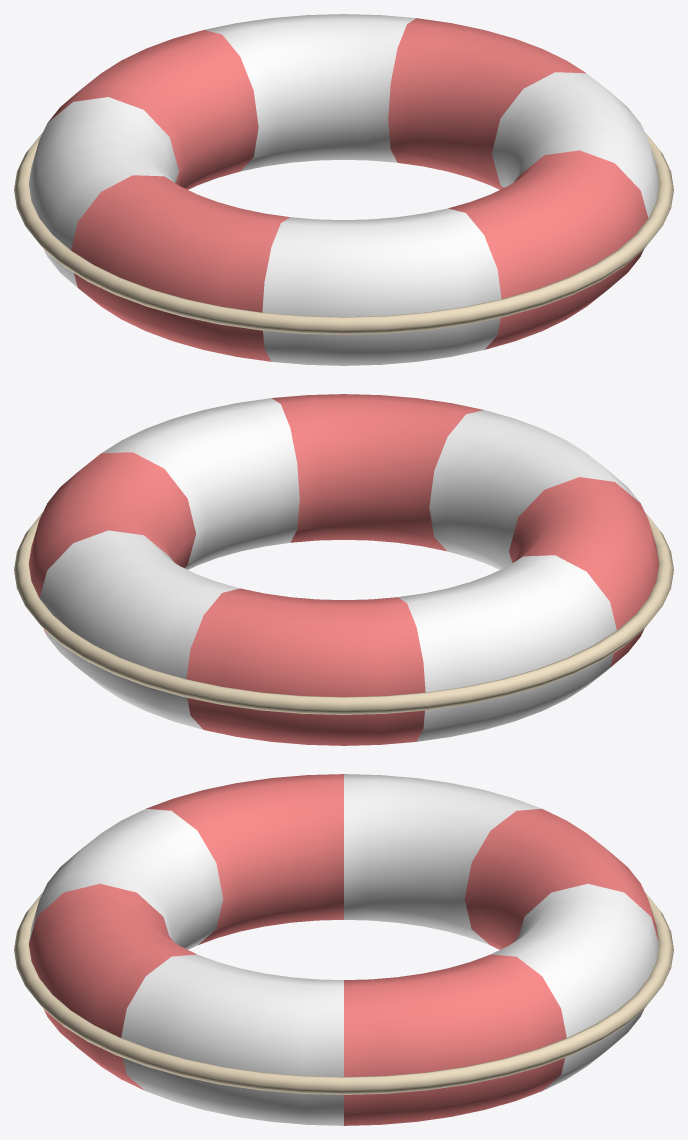
The model's file is BumperLifebuoy.glb.
The picture shows the model from 3 angles, top to bottom: view 1: azimuth 30°, elevation 25°; view 2: azimuth 150°, elevation 25°; view 3: azimuth 270°, elevation 25°; orthographic projection.
Visible parts, largest first — view 1: Red, White, Rope; view 2: White, Red, Rope; view 3: Red, White, Rope.
Boxes of the visible parts, box(x1,y1,x2,y2) form: Red: box(48, 18, 648, 361); White: box(29, 14, 658, 365); Rope: box(14, 132, 673, 334); White: box(39, 398, 639, 741); Red: box(29, 394, 658, 745); Rope: box(14, 512, 673, 714); Red: box(29, 774, 658, 1125); White: box(29, 774, 658, 1125); Rope: box(14, 892, 673, 1094).
Bounding box in the file's own units: 4.06 × 0.9 × 4.06.
